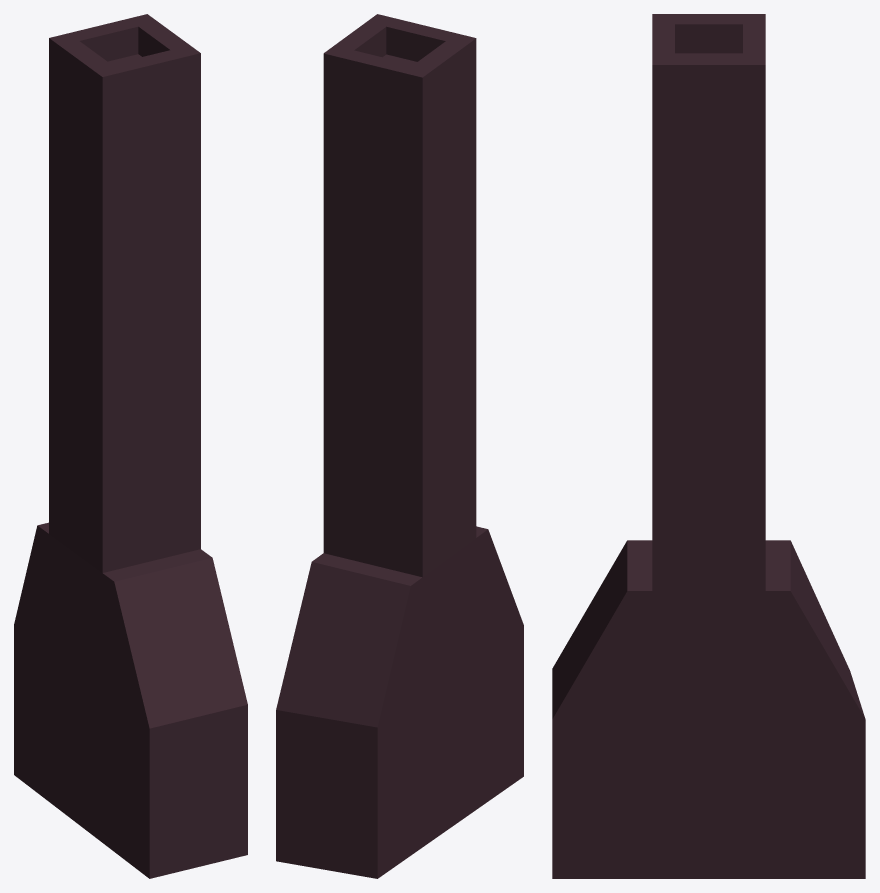
File: chimney.fbx
3 renders of one model, left to right at view 1: azimuth 30°, elevation 25°; view 2: azimuth 150°, elevation 25°; view 3: azimuth 270°, elevation 25°, orthographic. The views are drawn at different scales.
Parts seen in each view (by area): view 1: Chimney; view 2: Chimney; view 3: Chimney.
Boxes of the visible parts, bbox=[...] form: Chimney: bbox=[14, 14, 247, 878]; Chimney: bbox=[276, 14, 523, 878]; Chimney: bbox=[552, 14, 865, 878].
Size of the model in its own units: 0.4851 by 3.62 by 1.26.
